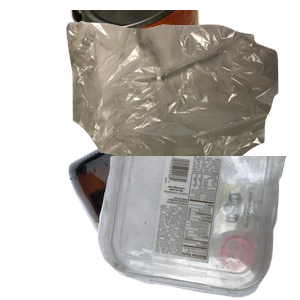glass: (66, 120, 300, 300)
metal: (68, 10, 265, 131)
plastic: (95, 156, 300, 300)
trash: (64, 20, 300, 200)
